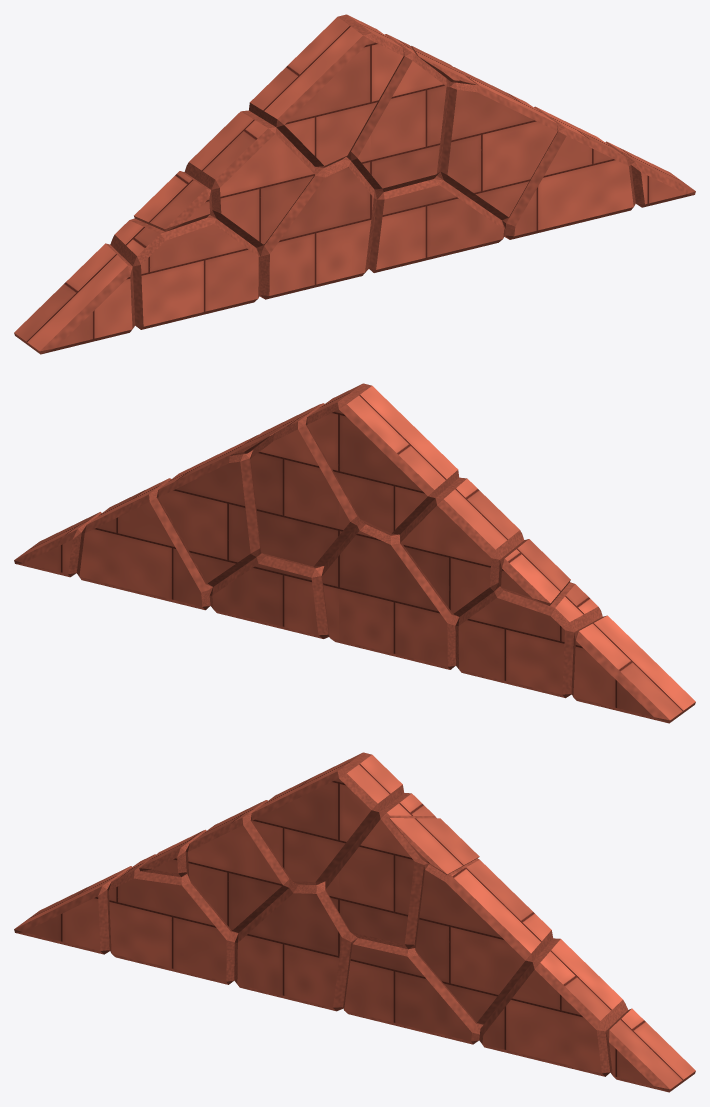
File: Kit_Brick_Gable_Fractured.fbx
The picture shows the model from 3 angles, top to bottom: view 1: azimuth 30°, elevation 25°; view 2: azimuth 150°, elevation 25°; view 3: azimuth 330°, elevation 25°; orthographic projection.
Visible parts, largest first — view 1: Kit_Brick_Gable_frag_12, Kit_Brick_Gable_frag_07, Kit_Brick_Gable_frag_09, Kit_Brick_Gable_frag_01, Kit_Brick_Gable_frag_10, Kit_Brick_Gable_frag_05, Kit_Brick_Gable_frag_11, Kit_Brick_Gable_frag_06, Kit_Brick_Gable_frag_03, Kit_Brick_Gable_frag_04, Kit_Brick_Gable_frag_02, Kit_Brick_Gable_frag_08; view 2: Kit_Brick_Gable_frag_12, Kit_Brick_Gable_frag_09, Kit_Brick_Gable_frag_07, Kit_Brick_Gable_frag_05, Kit_Brick_Gable_frag_10, Kit_Brick_Gable_frag_11, Kit_Brick_Gable_frag_01, Kit_Brick_Gable_frag_03, Kit_Brick_Gable_frag_06, Kit_Brick_Gable_frag_04, Kit_Brick_Gable_frag_02, Kit_Brick_Gable_frag_08; view 3: Kit_Brick_Gable_frag_01, Kit_Brick_Gable_frag_11, Kit_Brick_Gable_frag_12, Kit_Brick_Gable_frag_09, Kit_Brick_Gable_frag_07, Kit_Brick_Gable_frag_05, Kit_Brick_Gable_frag_06, Kit_Brick_Gable_frag_10, Kit_Brick_Gable_frag_02, Kit_Brick_Gable_frag_03, Kit_Brick_Gable_frag_08, Kit_Brick_Gable_frag_04.
Boxes of the visible parts, <box> form: Kit_Brick_Gable_frag_12: <box>249,14,404,167</box>; Kit_Brick_Gable_frag_07: <box>110,215,260,329</box>; Kit_Brick_Gable_frag_09: <box>256,156,376,299</box>; Kit_Brick_Gable_frag_01: <box>437,67,558,220</box>; Kit_Brick_Gable_frag_10: <box>184,110,314,247</box>; Kit_Brick_Gable_frag_05: <box>346,34,449,192</box>; Kit_Brick_Gable_frag_11: <box>502,106,635,239</box>; Kit_Brick_Gable_frag_06: <box>369,176,505,272</box>; Kit_Brick_Gable_frag_03: <box>14,243,135,354</box>; Kit_Brick_Gable_frag_04: <box>134,171,212,231</box>; Kit_Brick_Gable_frag_02: <box>605,141,695,207</box>; Kit_Brick_Gable_frag_08: <box>411,46,475,84</box>; Kit_Brick_Gable_frag_12: <box>305,383,459,535</box>; Kit_Brick_Gable_frag_09: <box>321,522,459,669</box>; Kit_Brick_Gable_frag_07: <box>455,582,602,698</box>; Kit_Brick_Gable_frag_05: <box>250,403,363,568</box>; Kit_Brick_Gable_frag_10: <box>400,477,523,616</box>; Kit_Brick_Gable_frag_11: <box>76,478,212,610</box>; Kit_Brick_Gable_frag_01: <box>156,434,261,586</box>; Kit_Brick_Gable_frag_03: <box>571,615,695,723</box>; Kit_Brick_Gable_frag_06: <box>209,553,329,638</box>; Kit_Brick_Gable_frag_04: <box>498,539,570,605</box>; Kit_Brick_Gable_frag_02: <box>14,512,101,577</box>; Kit_Brick_Gable_frag_08: <box>230,404,320,455</box>; Kit_Brick_Gable_frag_01: <box>414,858,552,1024</box>; Kit_Brick_Gable_frag_11: <box>479,938,627,1076</box>; Kit_Brick_Gable_frag_12: <box>250,752,404,884</box>; Kit_Brick_Gable_frag_09: <box>234,881,357,1011</box>; Kit_Brick_Gable_frag_07: <box>107,854,238,984</box>; Kit_Brick_Gable_frag_05: <box>325,793,436,949</box>; Kit_Brick_Gable_frag_06: <box>343,938,483,1044</box>; Kit_Brick_Gable_frag_10: <box>185,800,293,932</box>; Kit_Brick_Gable_frag_02: <box>605,1008,695,1092</box>; Kit_Brick_Gable_frag_03: <box>14,866,131,954</box>; Kit_Brick_Gable_frag_08: <box>389,818,479,874</box>; Kit_Brick_Gable_frag_04: <box>139,829,206,877</box>.
Size of what is drawn, in the model's own units: 2.96 by 1.04 by 0.25.
Materials: 2 (2 with a texture image).
